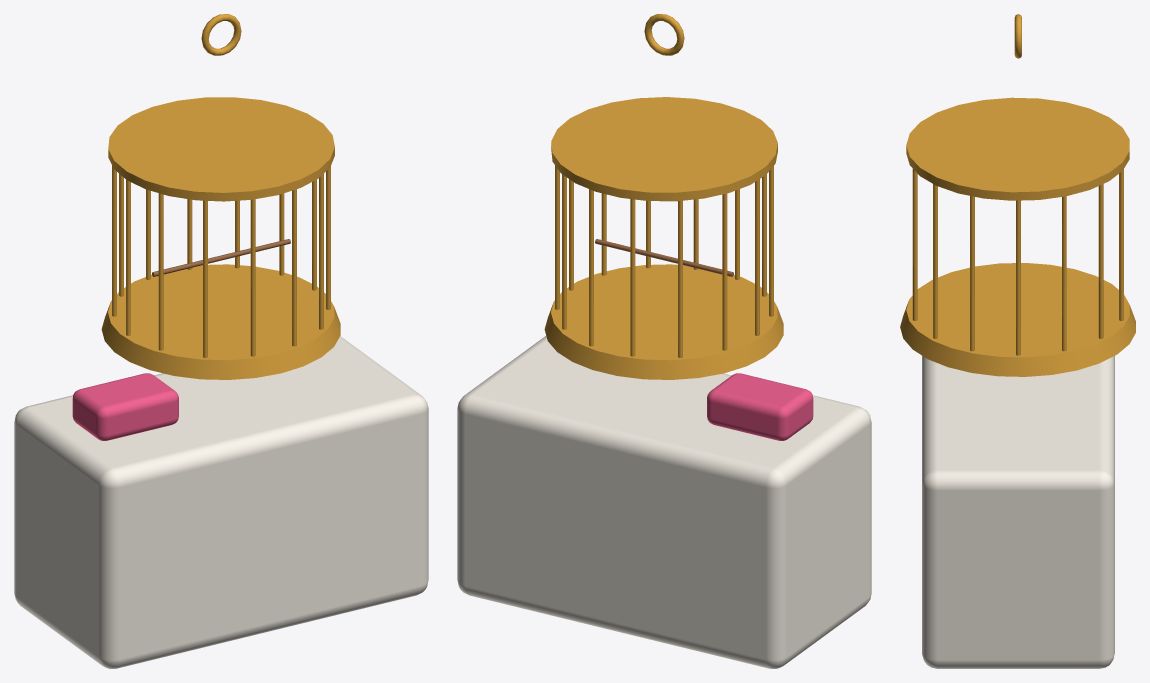
Rendered from tank-birdcage.glb.
3 renders of one model, left to right at view 1: azimuth 30°, elevation 25°; view 2: azimuth 150°, elevation 25°; view 3: azimuth 270°, elevation 25°, orthographic.
Bounding box in the file's own units: 1.2 × 2.11 × 0.7574.
